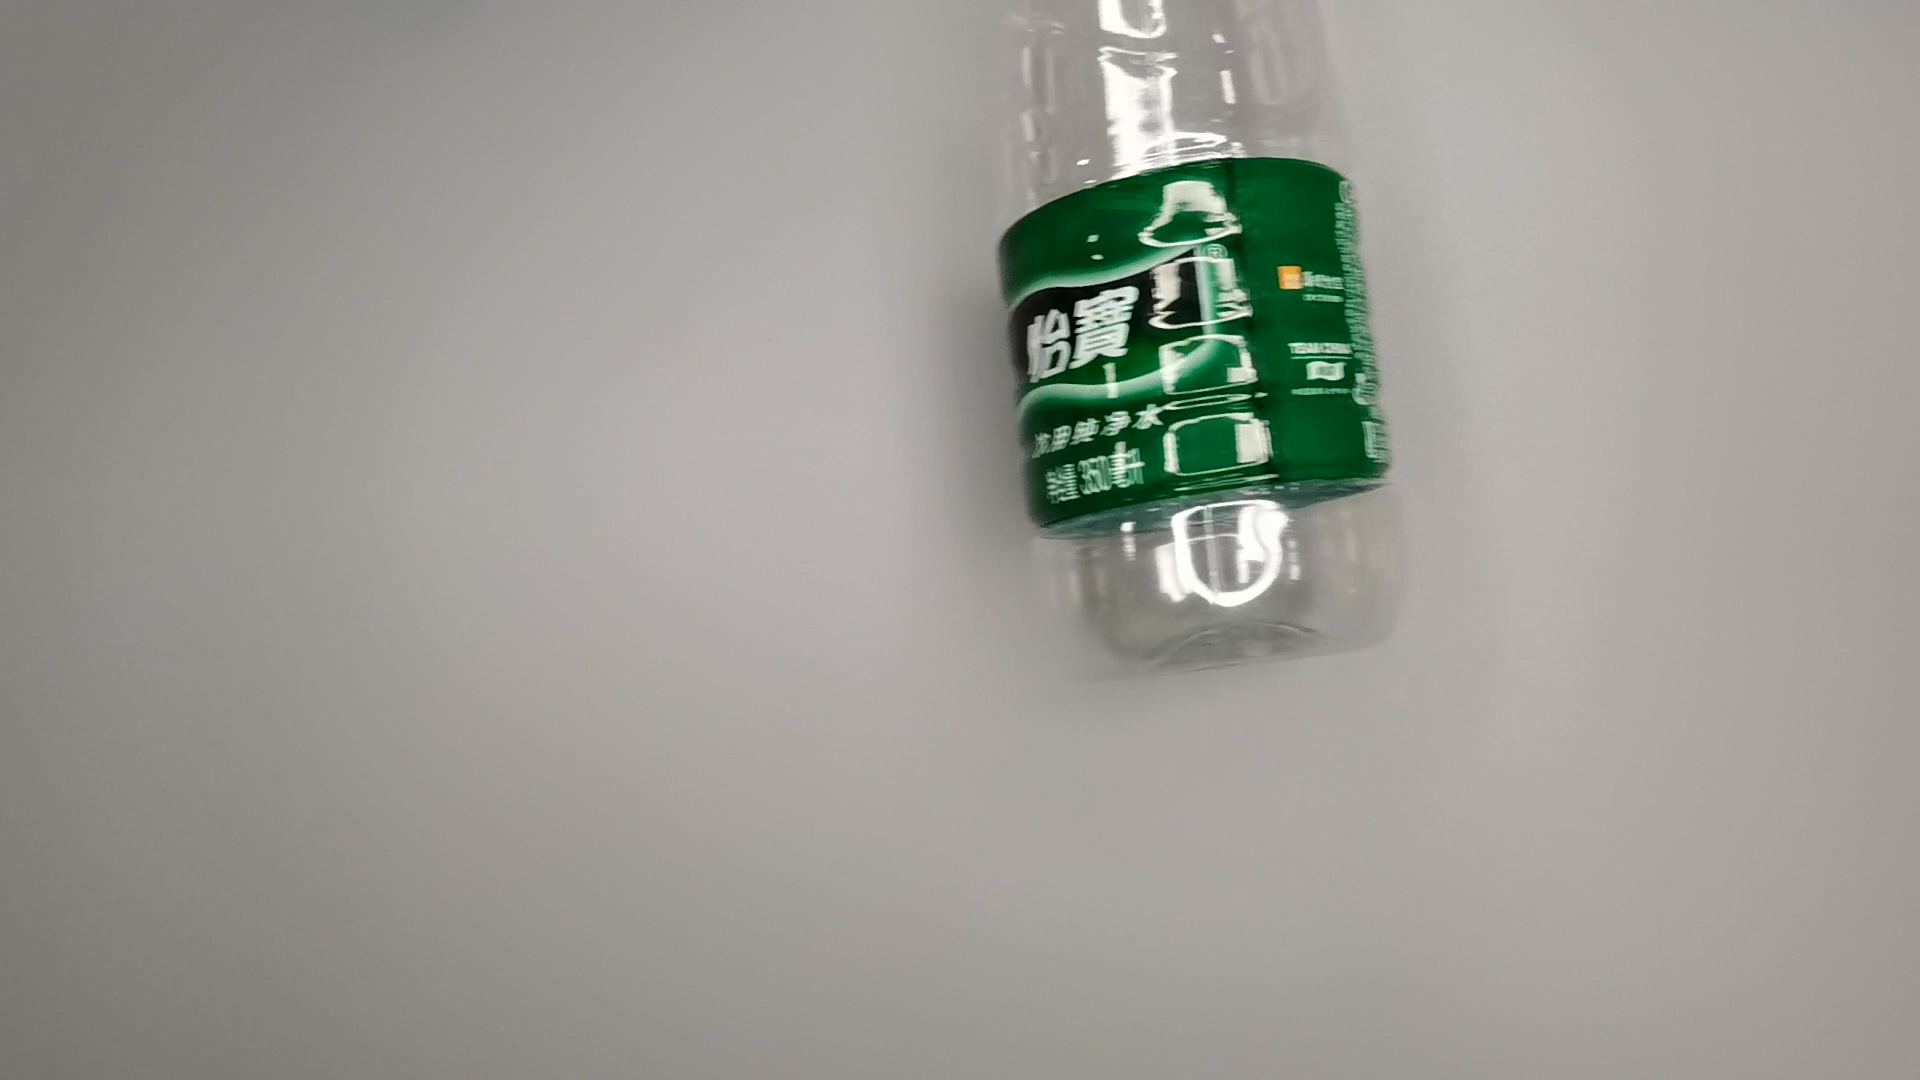bottle: (980, 1, 1414, 684)
